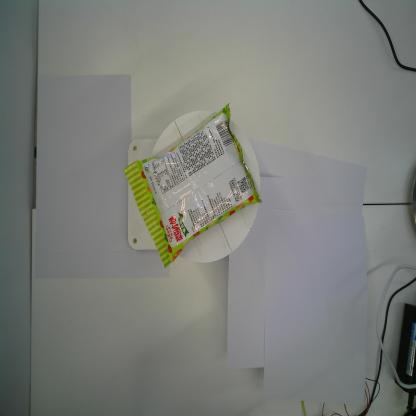Puffed Food: (121, 101, 264, 269)
